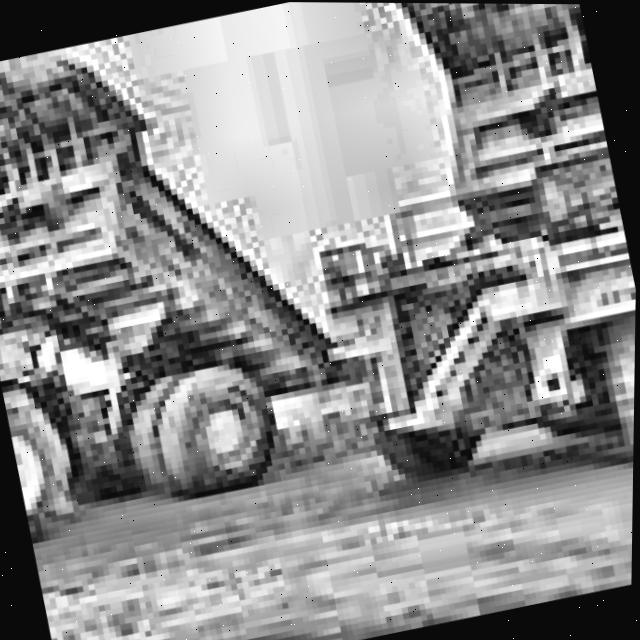dump_truck: (247, 1, 640, 530), (0, 5, 364, 545)
